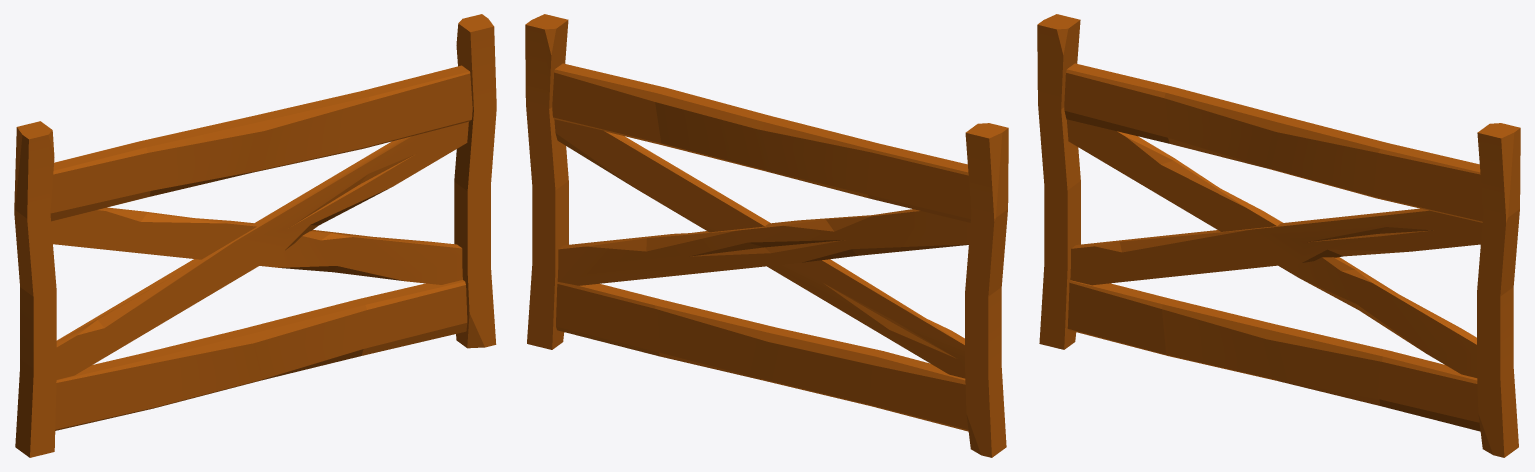
The model's file is Fence_1.fbx.
The picture shows the model from 3 angles, left to right: view 1: azimuth 30°, elevation 25°; view 2: azimuth 150°, elevation 25°; view 3: azimuth 330°, elevation 25°; orthographic projection.
Visible parts, largest first — view 1: Fence_1; view 2: Fence_1; view 3: Fence_1.
Boxes of the visible parts, left/top/right/bottom form: Fence_1: left=14, top=14, right=496, bottom=457; Fence_1: left=525, top=14, right=1008, bottom=457; Fence_1: left=1037, top=14, right=1520, bottom=457.
Bounding box in the file's own units: 62 × 40.31 × 3.77.
